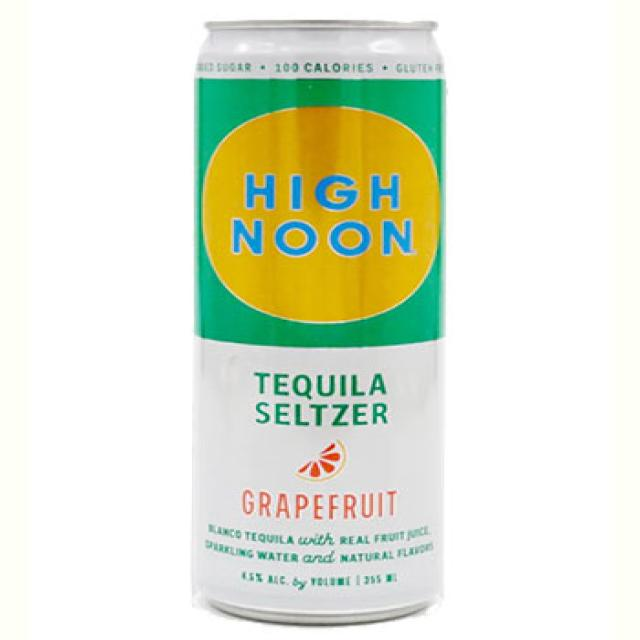Cans: (190, 17, 443, 629)
